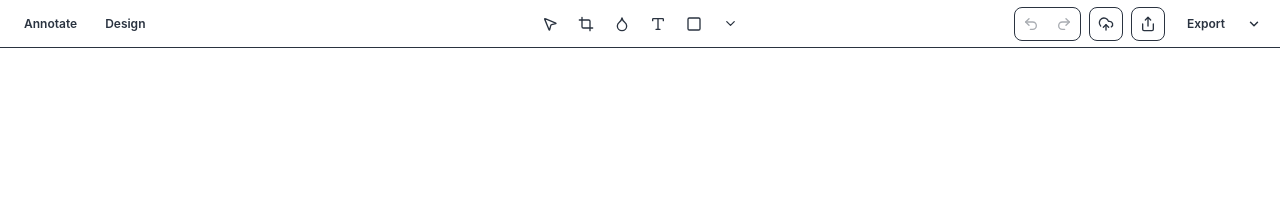
Test: EditorTopBar export menu › opens the export options from the top bar in Annotation mode
The image size is (1280, 224).
Click the button named "Export options" at (1254, 24), box [1240, 8, 1268, 40]
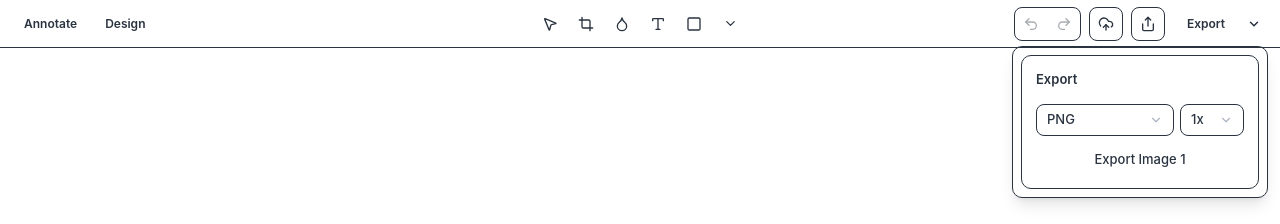
Now the heading "Export" is shown, box [1036, 70, 1244, 89]
